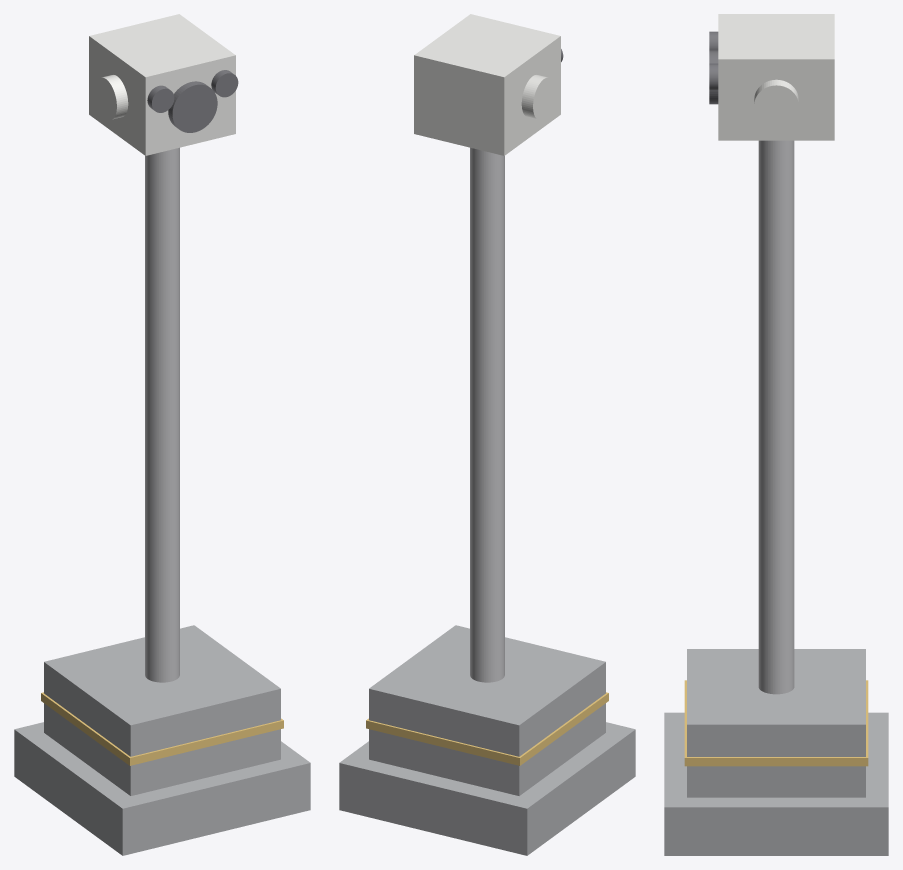
File: rover33_science_turret_deployed.glb
3 views of the same model, side by side, from view 1: azimuth 30°, elevation 25°; view 2: azimuth 150°, elevation 25°; view 3: azimuth 270°, elevation 25° (orthographic). The views are drawn at different scales.
Visible parts, largest first — view 1: base, mast, head, head_optics, base_trim; view 2: base, mast, head, base_trim; view 3: base, mast, head, base_trim, head_optics.
Boxes of the visible parts, x1,y1,x2,y2 form: base: (14, 625, 310, 855); mast: (145, 147, 179, 682); head: (89, 14, 235, 155); head_optics: (147, 70, 238, 132); base_trim: (41, 692, 283, 765); base: (339, 625, 635, 855); mast: (470, 147, 504, 682); head: (414, 14, 560, 155); base_trim: (366, 692, 608, 765); base: (664, 649, 888, 855); mast: (758, 140, 794, 694); head: (718, 14, 834, 140); base_trim: (684, 680, 868, 766); head_optics: (709, 31, 718, 104).
Bounding box in the file's own units: 0.5 × 1.9 × 0.5.
